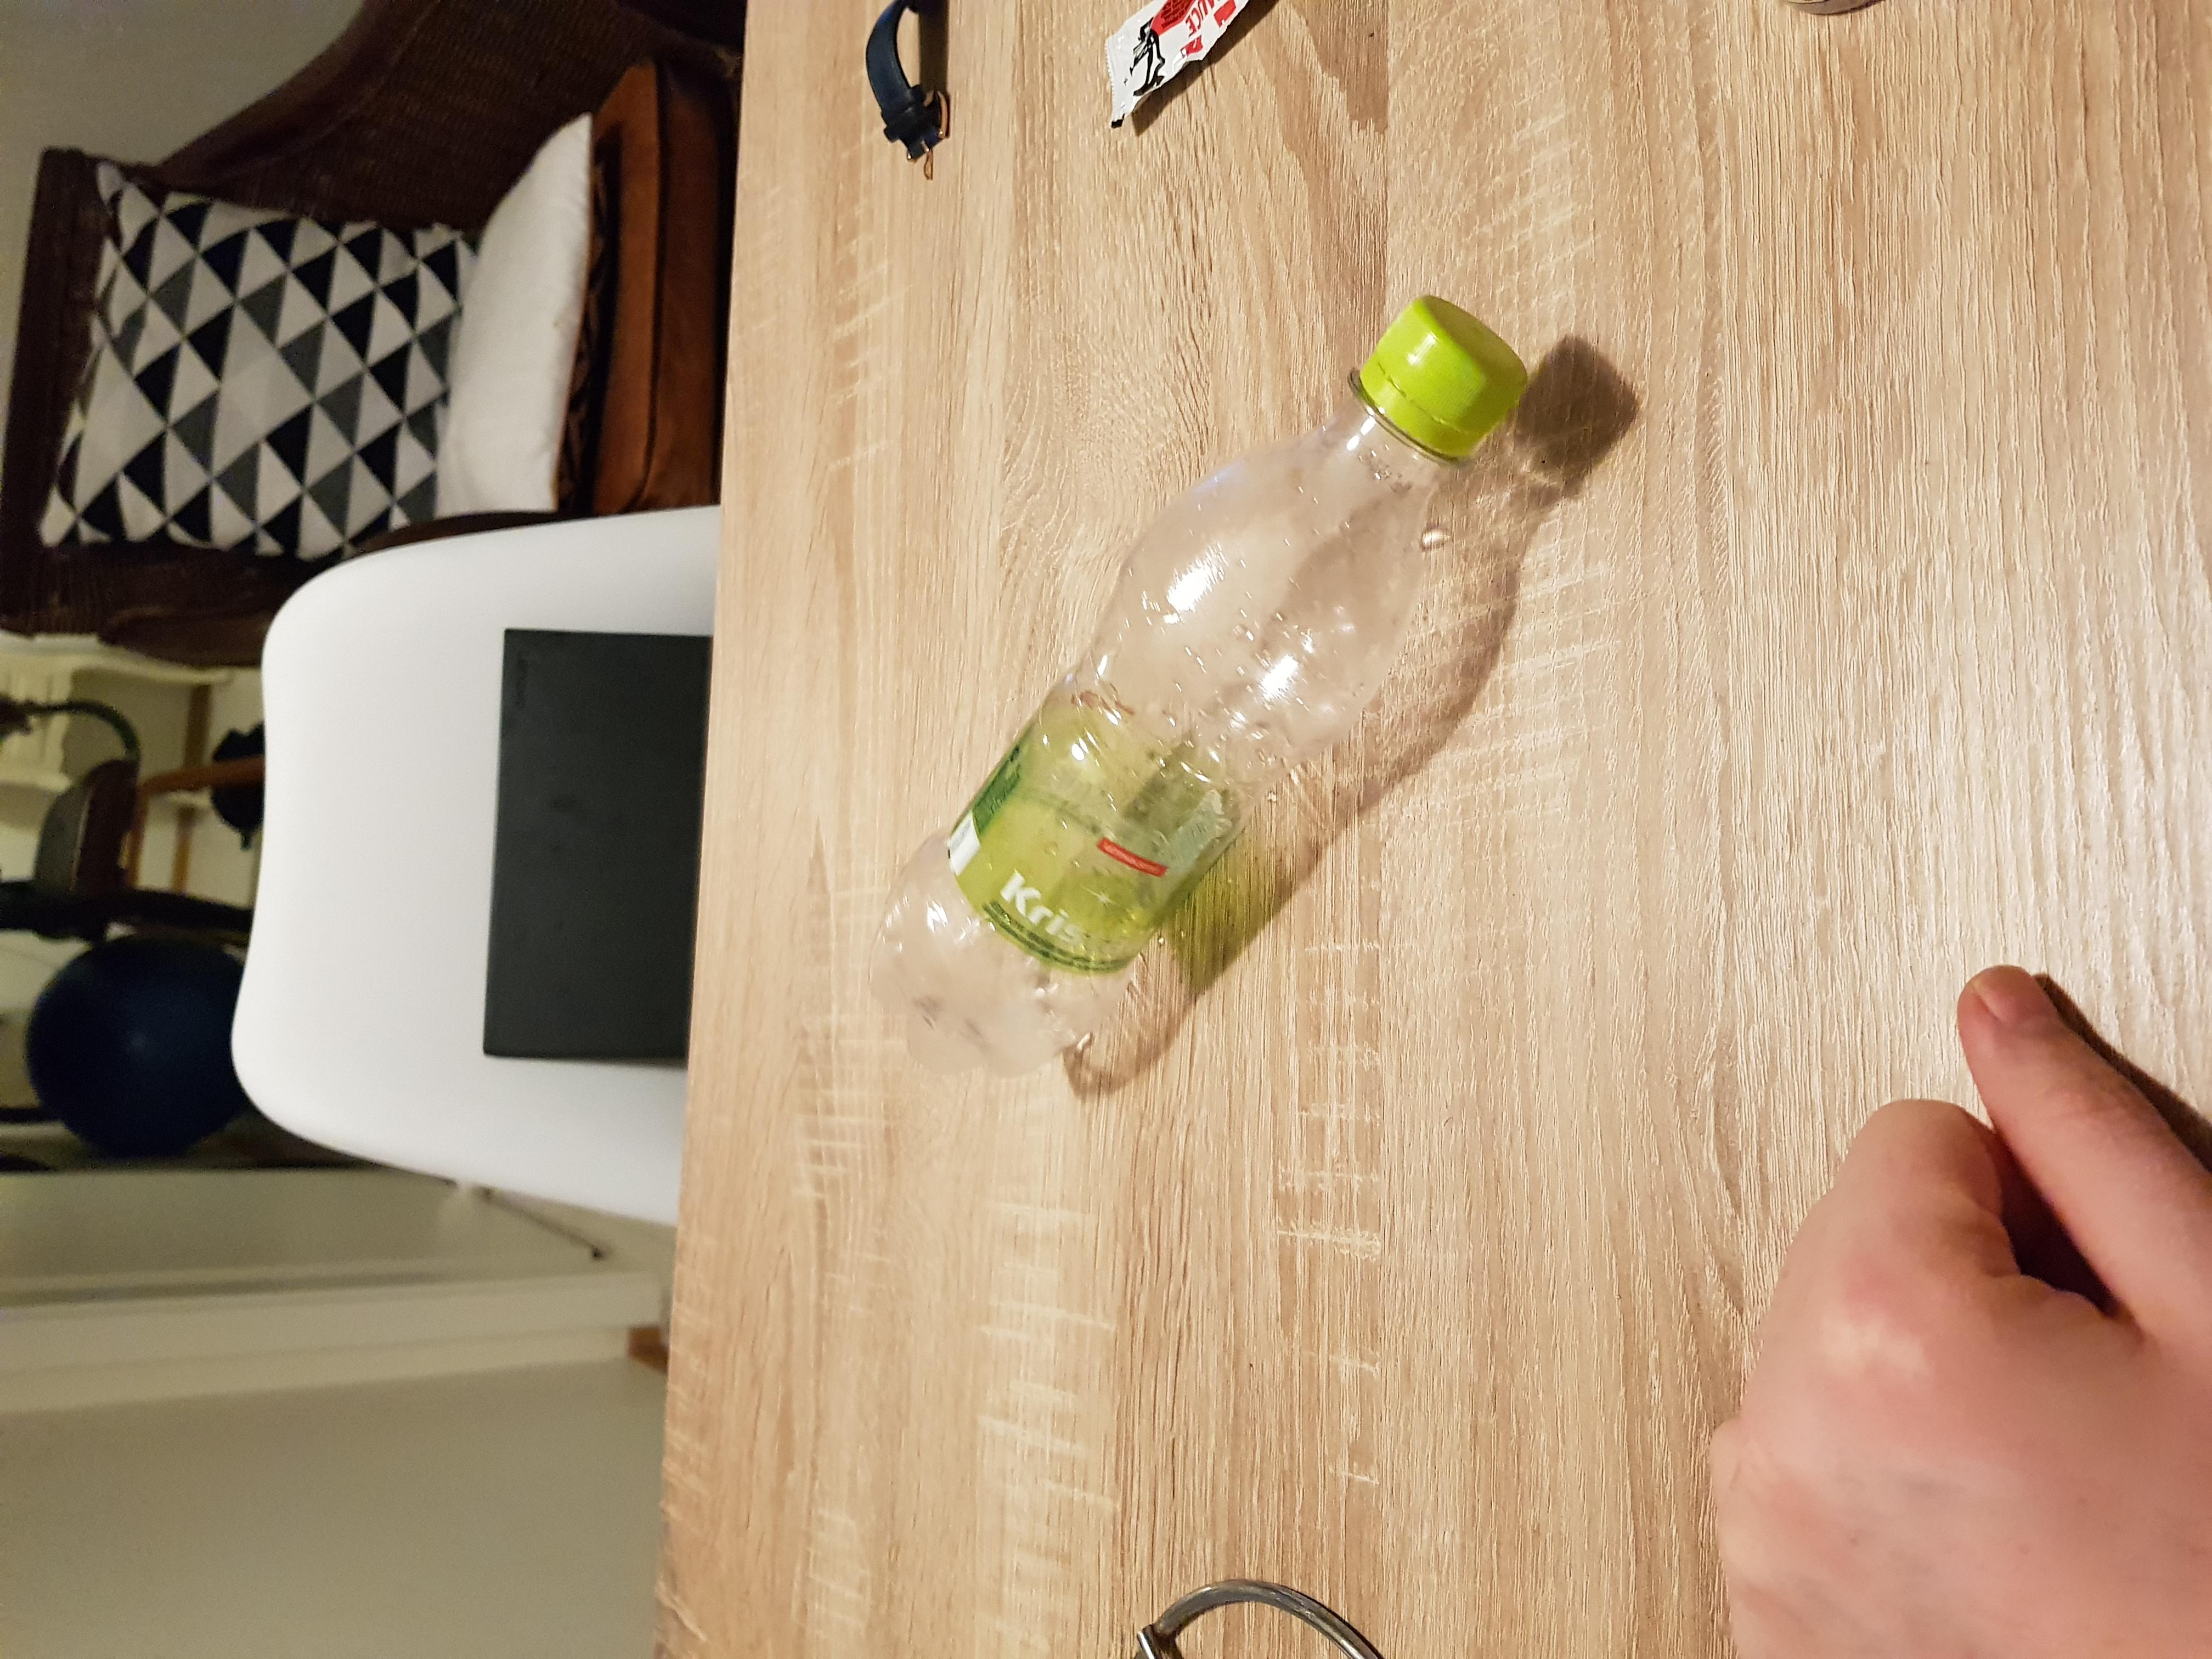Bottle: (864, 284, 1521, 1084)
